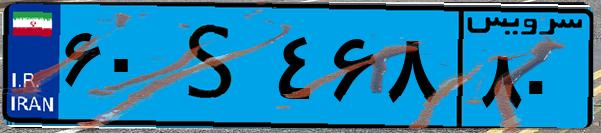0: (525, 38, 570, 115), (110, 28, 158, 98)
4: (270, 28, 330, 110)
6: (330, 28, 385, 110), (57, 26, 110, 100)
8: (385, 28, 445, 110), (475, 38, 525, 113)
S: (158, 12, 270, 120)
